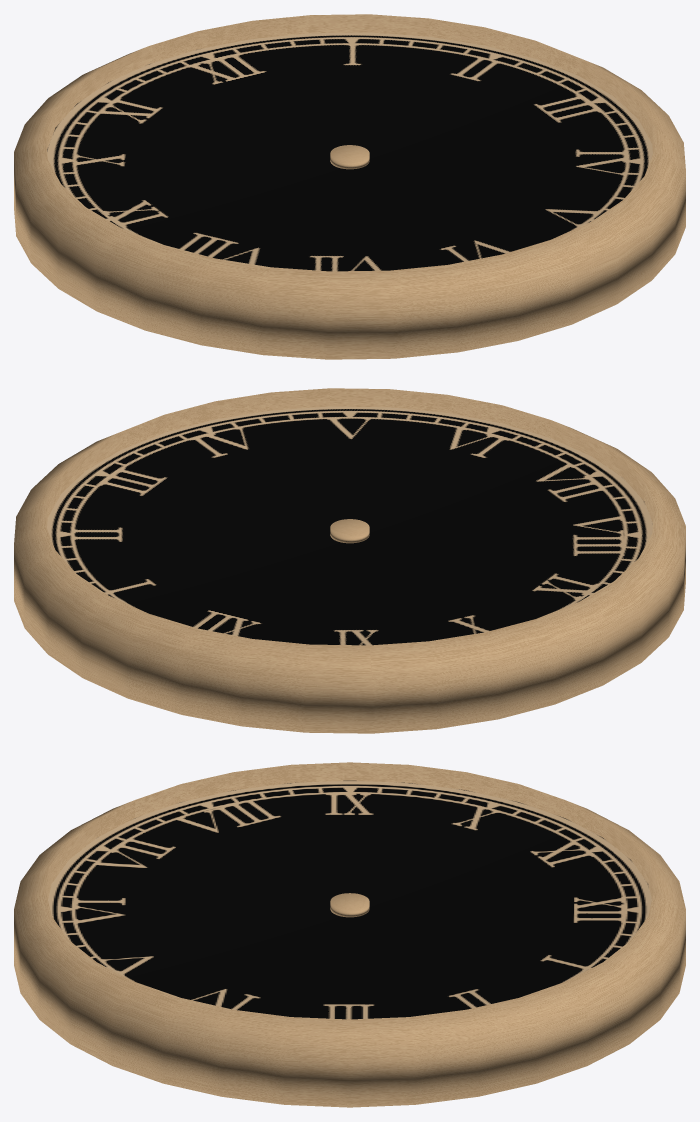
Rendered from mdl_hub_blondeblackclock.gltf.
The picture shows the model from 3 angles, top to bottom: view 1: azimuth 30°, elevation 25°; view 2: azimuth 150°, elevation 25°; view 3: azimuth 270°, elevation 25°; orthographic projection.
Visible parts, largest first — view 1: Cylinder, Cylinder.001; view 2: Cylinder, Cylinder.001; view 3: Cylinder, Cylinder.001.
Boxes of the visible parts, box(x1,y1,x2,y2) form: Cylinder: box(14, 14, 685, 359); Cylinder.001: box(330, 145, 369, 169); Cylinder: box(14, 388, 685, 733); Cylinder.001: box(330, 519, 369, 543); Cylinder: box(14, 762, 685, 1107); Cylinder.001: box(330, 893, 369, 917).
Size of the model in its own units: 144 by 17.69 by 144.
Materials: 2 (2 with a texture image).
